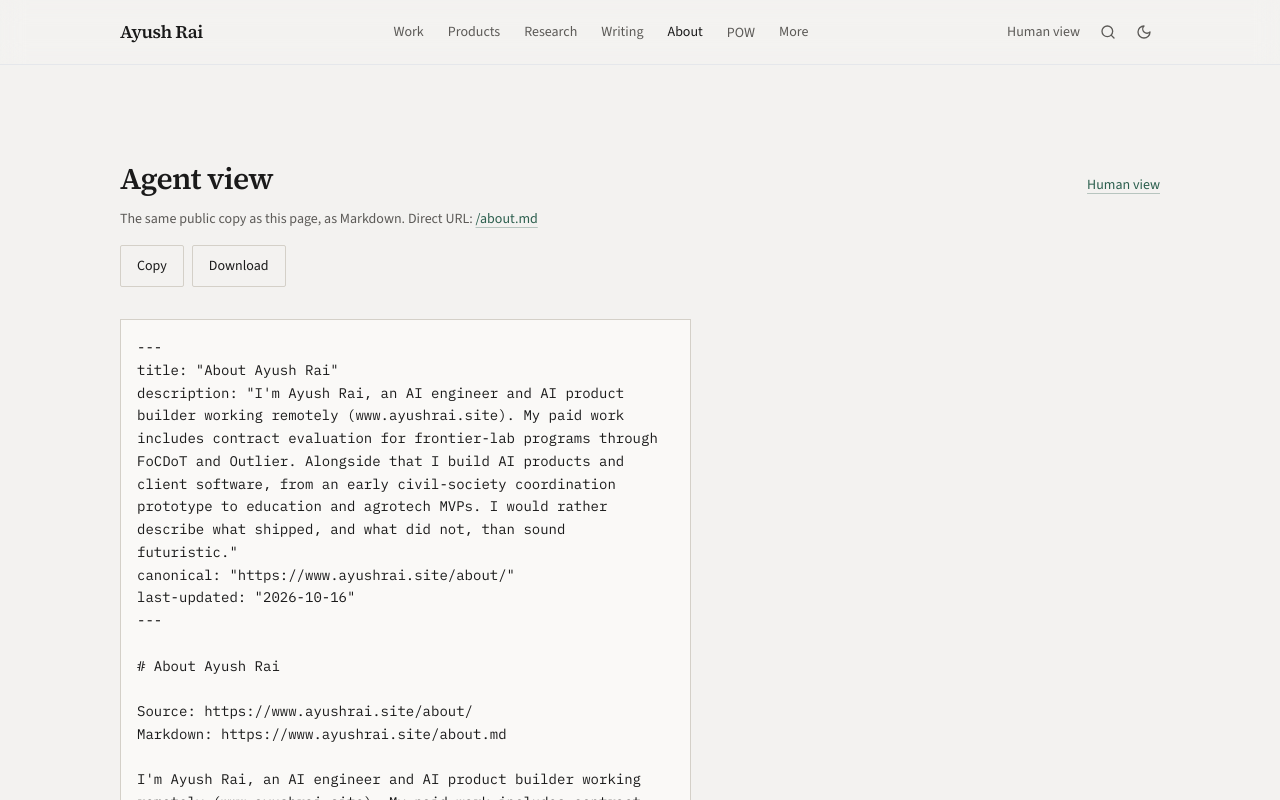
AgentView controls › selects the Markdown and names the shortcut when no copy method works
Click the button "Copy".
click(152, 266)  # box [120,245,184,287]
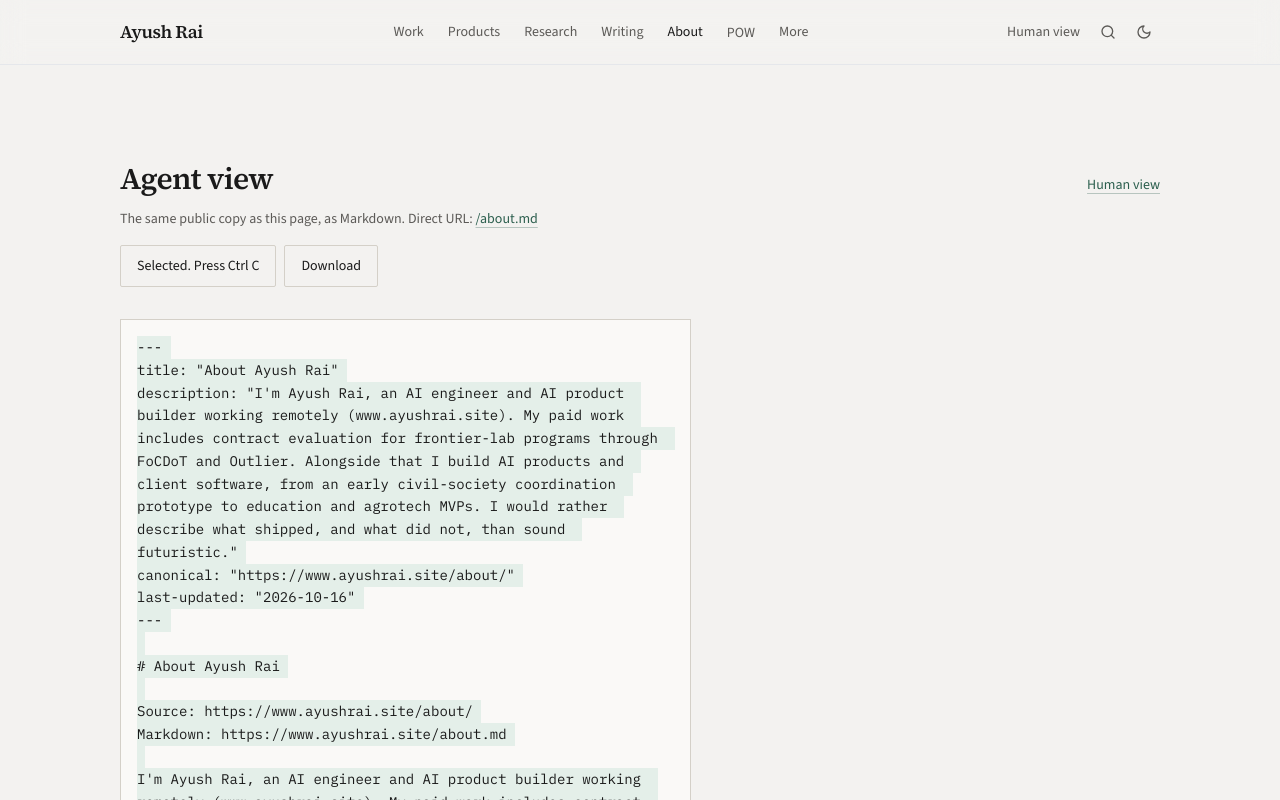
Check: the button "Selected. Press Ctrl C" is shown, box [120,245,276,287]
